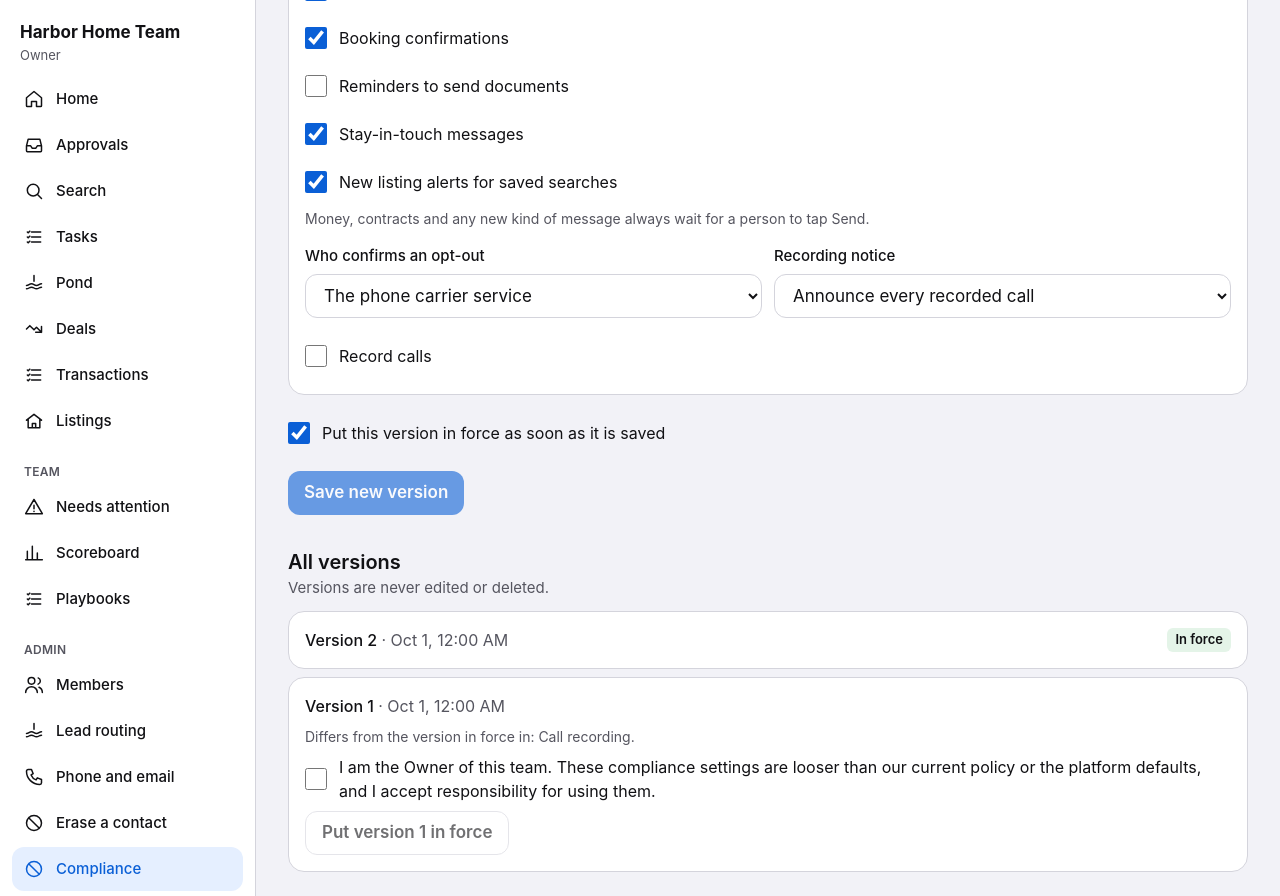
Scenario: Compliance policy › activating an older, looser version asks the Owner for the attestation first
The width and height of the screenshot is (1280, 896).
(page scrolled)
Expected: the button "Put version 1 in force" is disabled, [305,811,510,855]
Click the checkbox named "I am the Owner of this team. These compliance settings are looser than our current policy or the platform defaults, and ": (316, 779) [305,768,327,790]
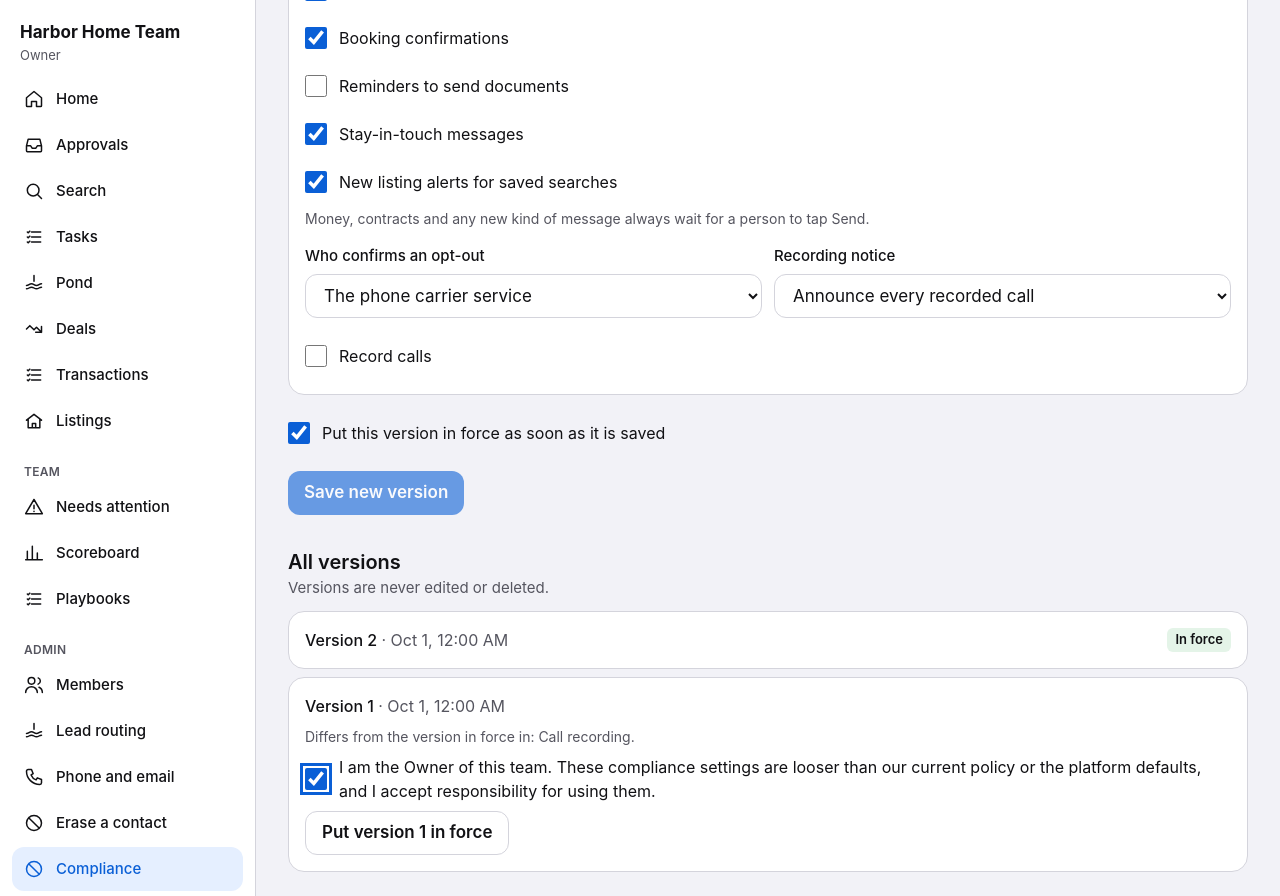
Click the button "Put version 1 in force": (407, 833) [305,811,510,855]
(page scrolled)
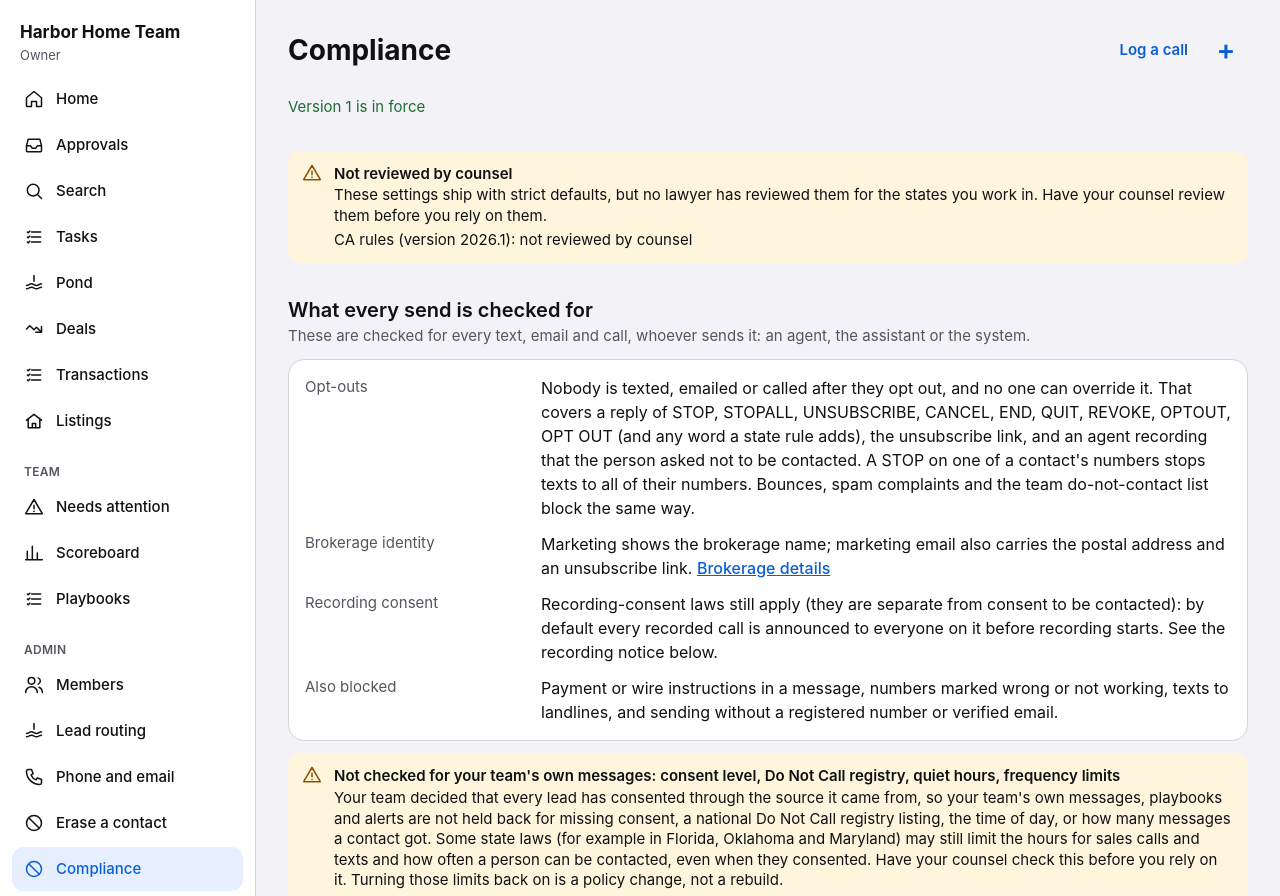
Now the text "Version 1 is in force" is shown, box [288,97,425,116]
